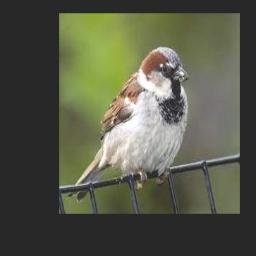Sparrow: (68, 47, 188, 203)
